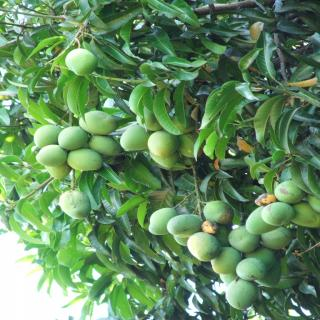Mango: (149, 180, 320, 308), (36, 106, 198, 179), (58, 124, 92, 152), (59, 189, 92, 217), (66, 49, 96, 74)
